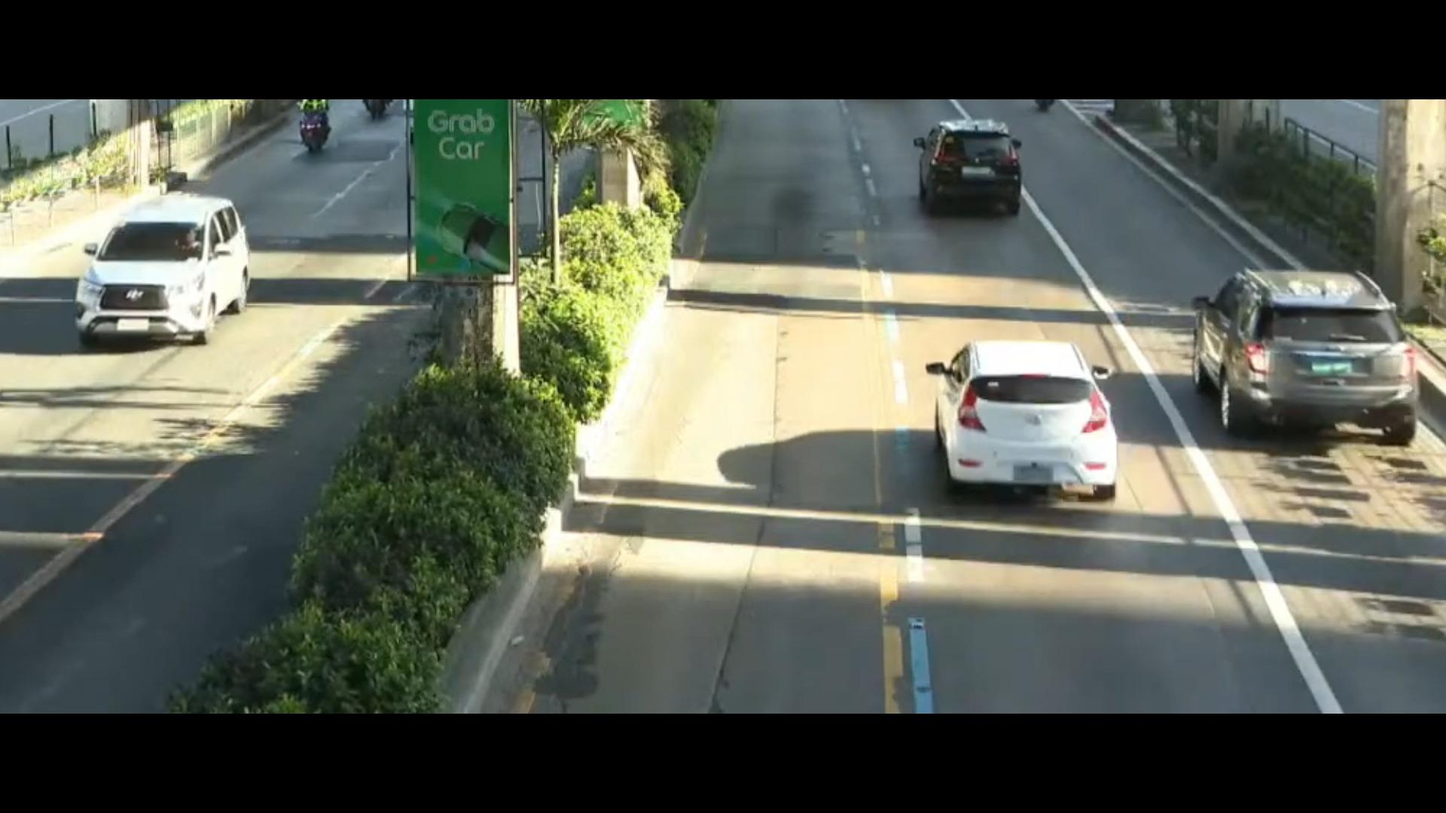Motorcycle: (287, 102, 330, 157)
SUV: (1177, 253, 1437, 447), (65, 190, 258, 351), (901, 108, 1043, 238)
Sedan: (909, 325, 1138, 521)
